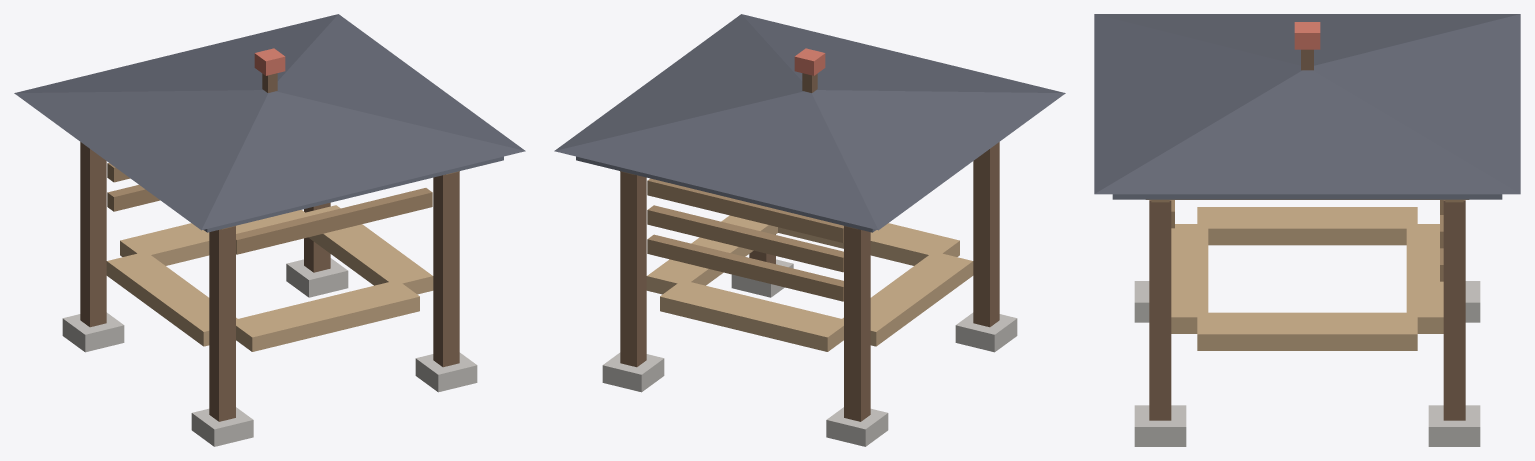
The model's file is station_风亭.glb.
The picture shows the model from 3 angles, left to right: view 1: azimuth 30°, elevation 25°; view 2: azimuth 150°, elevation 25°; view 3: azimuth 270°, elevation 25°; orthographic projection. The views are drawn at different scales.
Visible parts, largest first — view 1: 风亭; view 2: 风亭; view 3: 风亭.
Part boxes in pixels (<box>): 风亭: <box>14,14,525,446</box>; 风亭: <box>554,14,1065,446</box>; 风亭: <box>1094,14,1520,446</box>.
Bounding box in the file's own units: 1.16 × 1.04 × 1.16.
